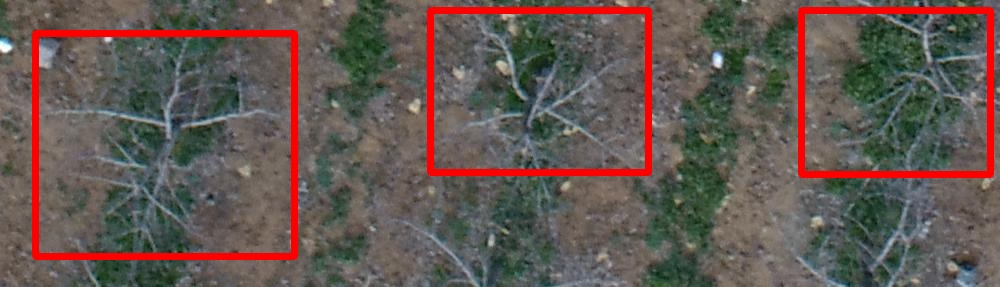apple: (35, 33, 294, 256), (430, 10, 648, 172), (801, 10, 990, 174)
